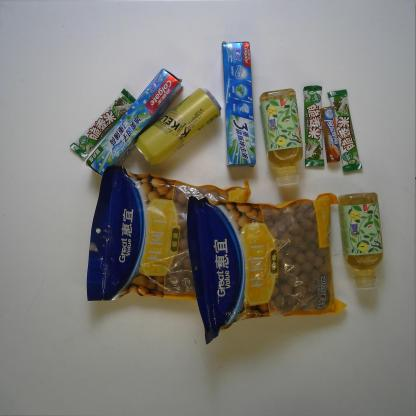Alcohol: (134, 87, 221, 168)
Candy: (321, 105, 341, 165)
Chocolate: (67, 89, 136, 160), (327, 90, 363, 174), (302, 85, 324, 167)
Dried Food: (186, 192, 348, 346), (85, 165, 252, 303)
Drink: (336, 192, 385, 297), (258, 88, 302, 187)
Personal Hygiene: (85, 68, 183, 176), (220, 39, 257, 170)
